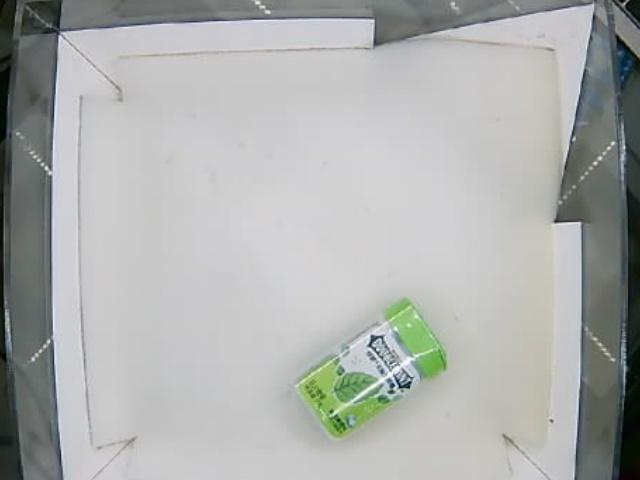Bottle: (291, 297, 449, 443)
